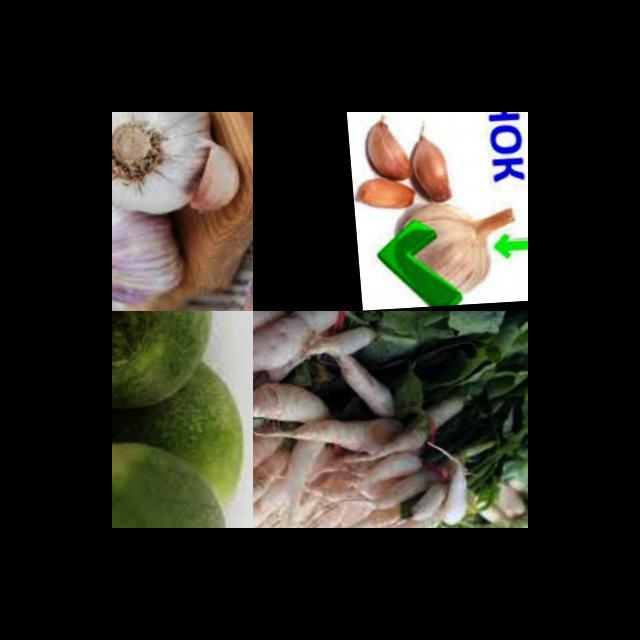garlic: (390, 195, 525, 304), (112, 112, 219, 221), (112, 191, 178, 311), (178, 138, 248, 226), (348, 116, 409, 190), (406, 123, 454, 216), (352, 174, 418, 218)
